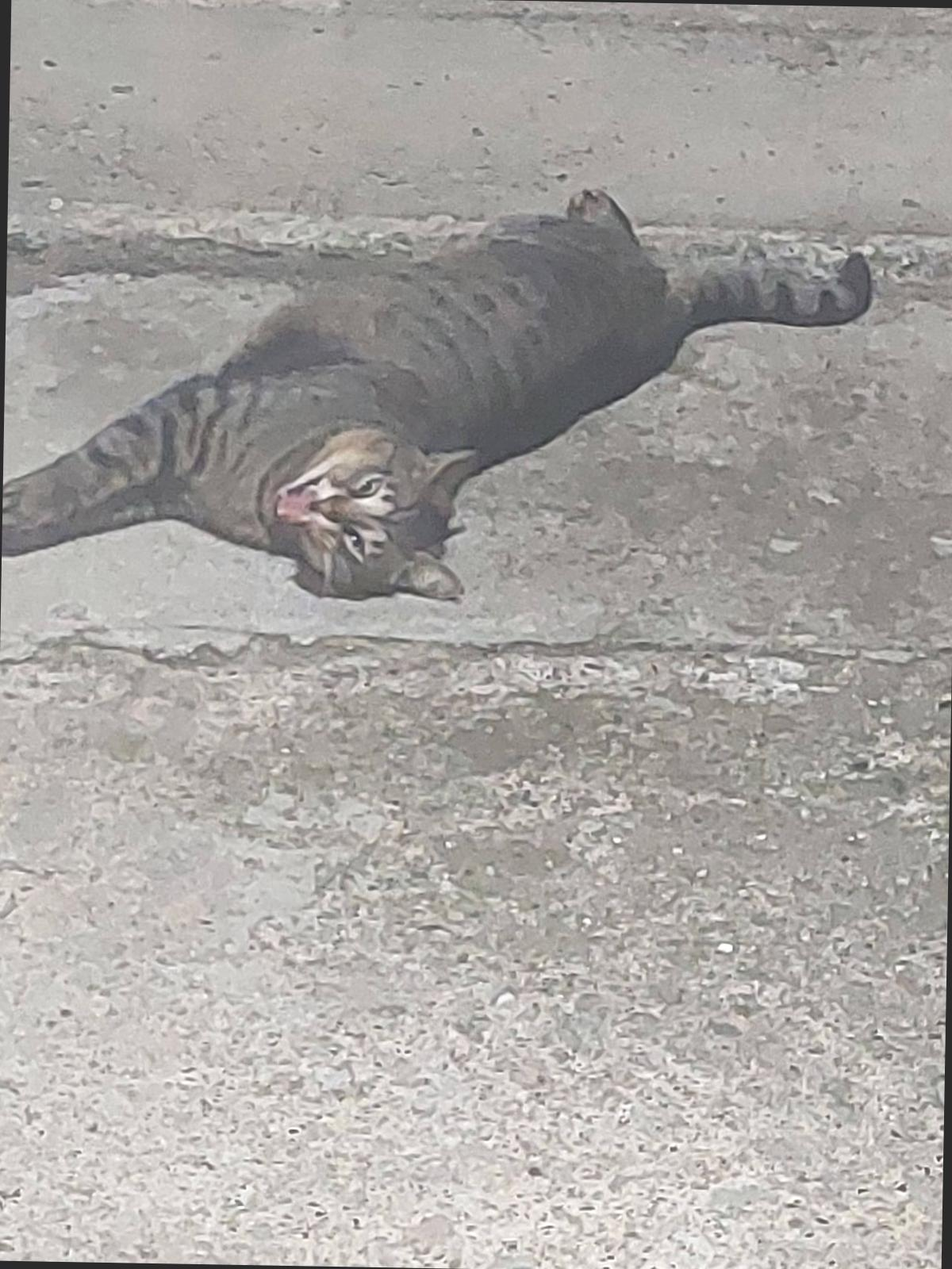macka: (1, 176, 873, 607)
